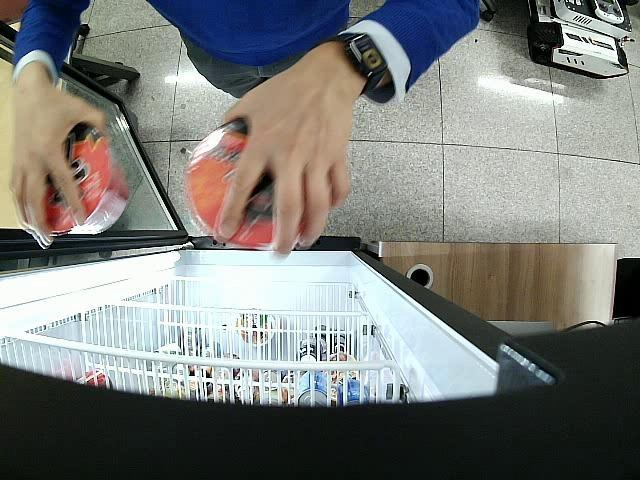01_ShinRamen_L: (187, 118, 275, 251), (44, 122, 130, 234)
